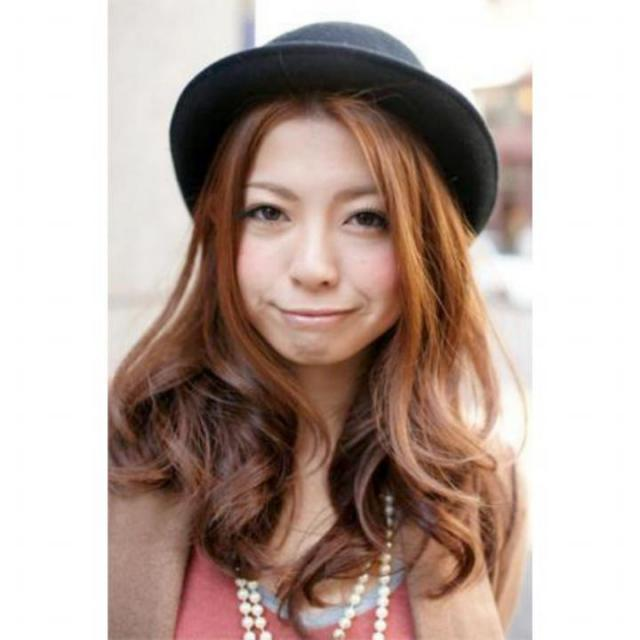live: (216, 96, 419, 370)
